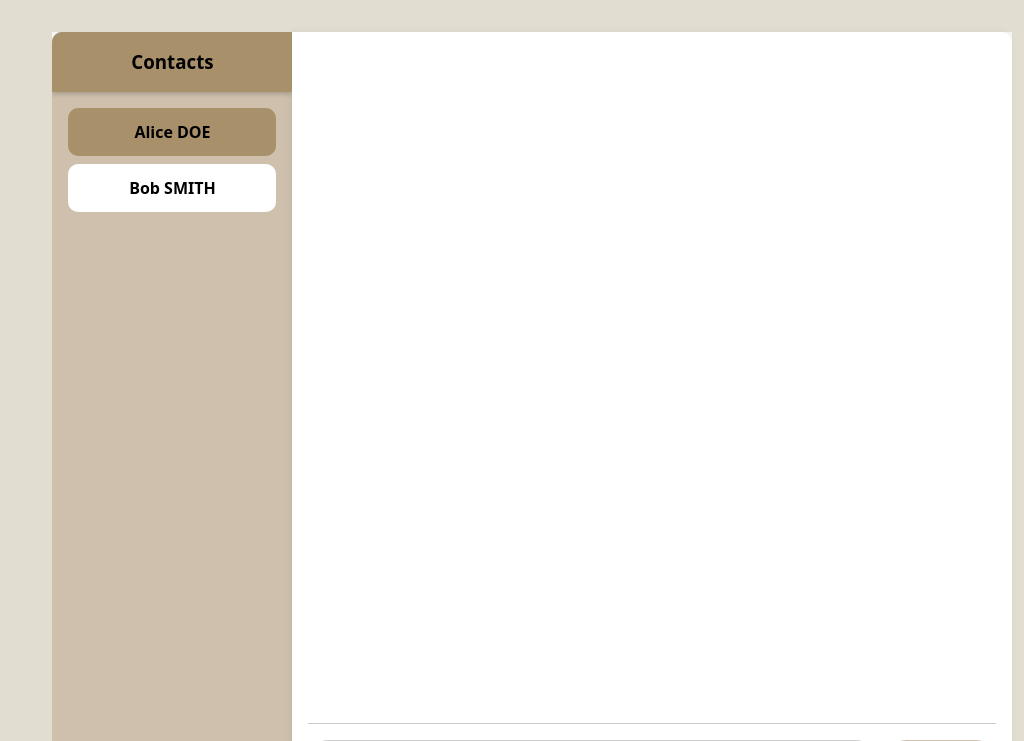
Scenario: ChatManagement › receives socket message and appends it
Click the text "Bob SMITH": {"x": 172, "y": 188} [68,164,276,212]
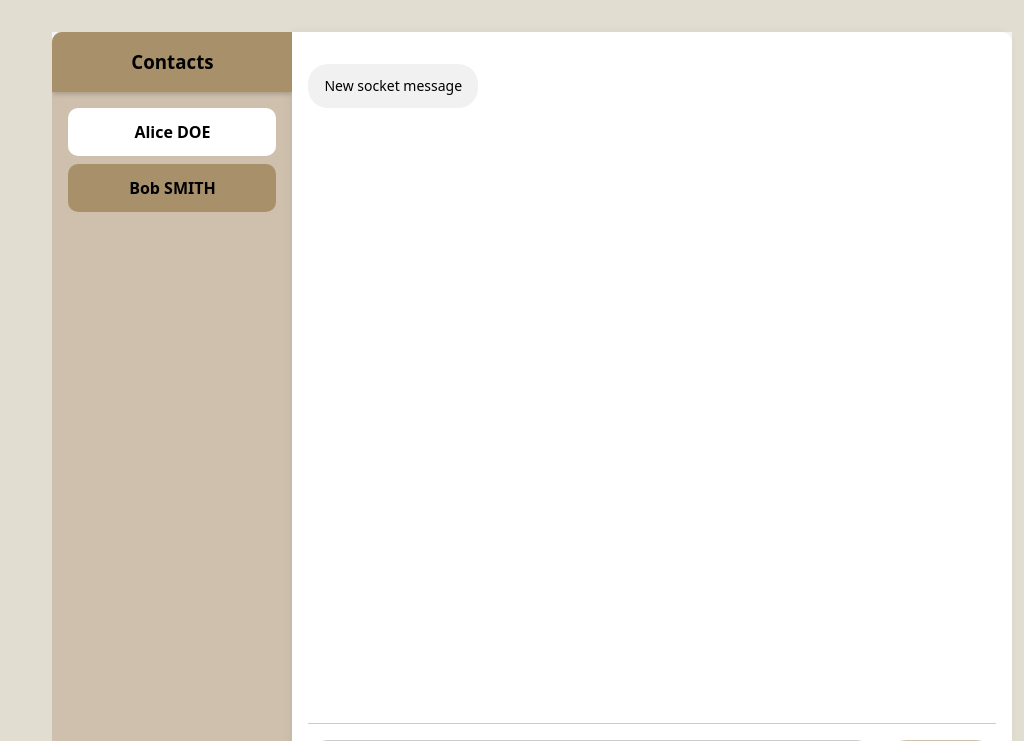
Result: the text "New socket message" is shown at [308,64,478,108]
